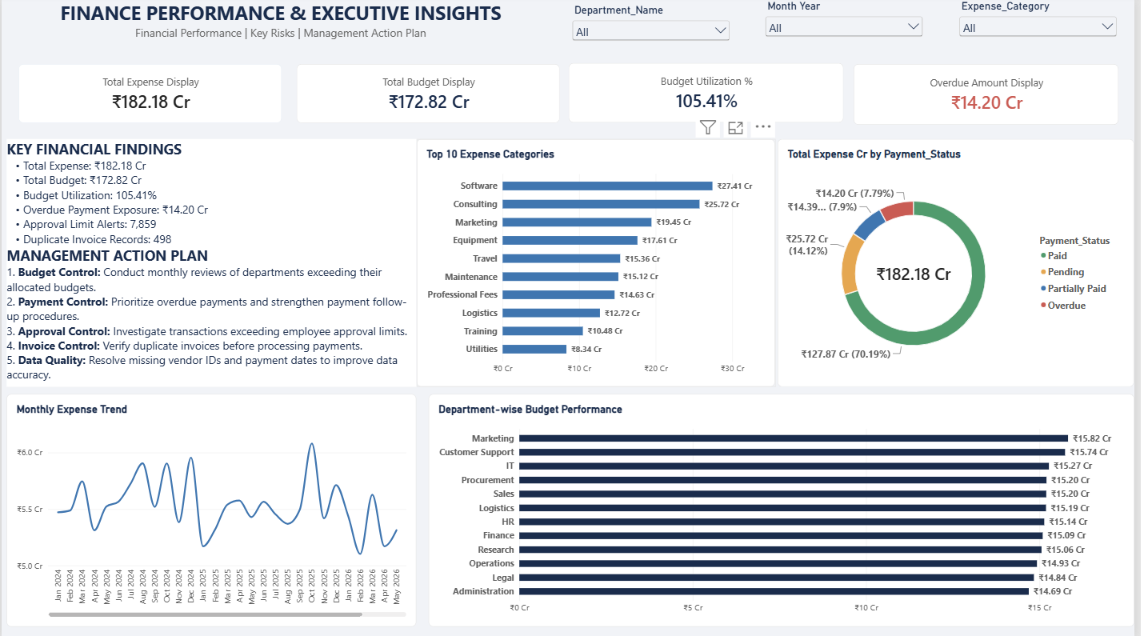

What the dashboard file says about the page in this screenshot:
{"tool":"powerbi","page":{"name":"Executive Insights & Recommendations","canvas":[1920,1080],"ordinal":4},"visuals":[{"type":"textbox","box":[0,0,946,88],"z":0},{"type":"cardVisual","title":"Total Expense","fields":{"Data":["finance_mis cleaned_transactions.Total Expense Display"]},"box":[29.6,109.3,446.3,100],"z":1000},{"type":"cardVisual","fields":{"Data":["finance_mis cleaned_monthly_budget.Total Budget Display"]},"box":[500,109.3,446.3,100],"z":2000},{"type":"cardVisual","fields":{"Data":["finance_mis cleaned_transactions.Budget Utilization %"]},"box":[961.1,107.4,466.7,101.9],"z":3000},{"type":"cardVisual","fields":{"Data":["finance_mis cleaned_transactions.Overdue Amount Display"]},"box":[1444.4,109.3,450,103.7],"z":4000},{"type":"lineChart","title":"Monthly Expense Trend","fields":{"Category":["Calendar.Month Year"],"Y":["finance_mis cleaned_transactions.Total Expense Cr"]},"box":[9.3,668.5,694.4,394.4],"z":5000},{"type":"clusteredBarChart","title":"Department-wise Budget Performance","fields":{"Category":["finance_mis cleaned_departments.Department_Name"],"Y":["finance_mis cleaned_transactions.Total Expense Cr"]},"box":[724,668,1196,394],"z":6000},{"type":"clusteredBarChart","title":"Top 10 Expense Categories","fields":{"Category":["Dim_Expense_Category.Expense_Category"],"Y":["finance_mis cleaned_transactions.Total Expense Cr"]},"box":[704,236,607.4,420.4],"z":7000},{"type":"donutChart","fields":{"Category":["finance_mis cleaned_transactions.Payment_Status"],"Y":["finance_mis cleaned_transactions.Total Expense Cr"]},"box":[1316,236,604,420],"z":8000},{"type":"textbox","box":[9.3,235.2,694.4,420.4],"z":9000},{"type":"slicer","fields":{"Values":["finance_mis cleaned_departments.Department_Name"]},"box":[962,6,276,102],"z":9001},{"type":"slicer","fields":{"Values":["Calendar.Month Year"]},"box":[1290,0,276,102],"z":9002},{"type":"slicer","fields":{"Values":["Dim_Expense_Category.Expense_Category"]},"box":[1618,0,276,102],"z":9003}]}

Visuals, with their boxes in screenshot pixels (x1, y1, x2, y2), scaled from the page's 1920x1080 canvas onto the 1141x636 screenshot:
textbox: <box>0,0,562,52</box>
"Total Expense" cardVisual: <box>18,64,283,123</box>
cardVisual - finance_mis cleaned_monthly_budget.Total Budget Display: <box>297,64,562,123</box>
cardVisual - finance_mis cleaned_transactions.Budget Utilization %: <box>571,63,848,123</box>
cardVisual - finance_mis cleaned_transactions.Overdue Amount Display: <box>858,64,1126,125</box>
"Monthly Expense Trend" lineChart: <box>6,394,418,626</box>
"Department-wise Budget Performance" clusteredBarChart: <box>430,393,1140,625</box>
"Top 10 Expense Categories" clusteredBarChart: <box>418,139,779,387</box>
donutChart - finance_mis cleaned_transactions.Payment_Status x finance_mis cleaned_transactions.Total Expense Cr: <box>782,139,1140,386</box>
textbox: <box>6,139,418,386</box>
slicer - finance_mis cleaned_departments.Department_Name: <box>572,4,736,64</box>
slicer - Calendar.Month Year: <box>767,0,931,60</box>
slicer - Dim_Expense_Category.Expense_Category: <box>962,0,1126,60</box>
